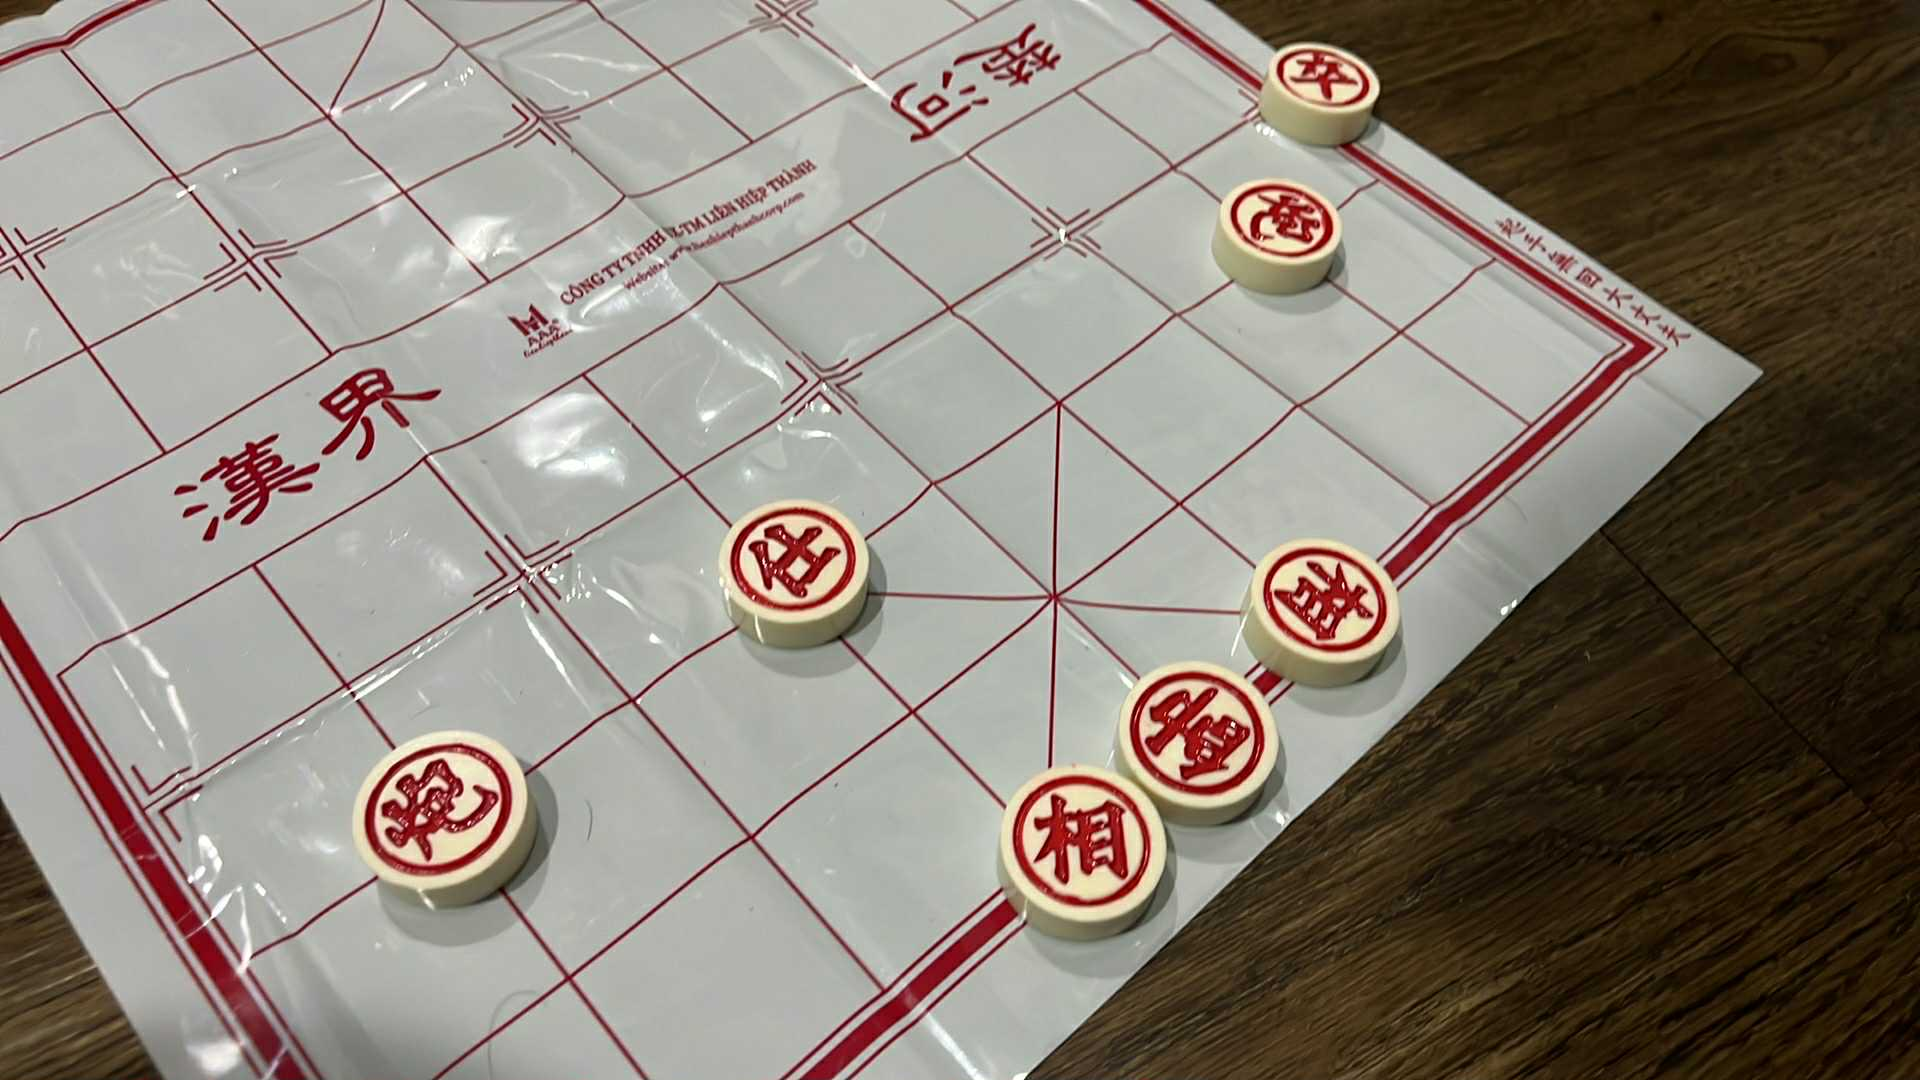red-advisor: (720, 497, 869, 624)
red-cannon: (351, 731, 529, 890), (1217, 178, 1342, 269)
red-elephant: (998, 761, 1168, 926), (1250, 538, 1403, 670)
red-general: (1118, 658, 1280, 811)
red-soldier: (1270, 41, 1379, 117)
